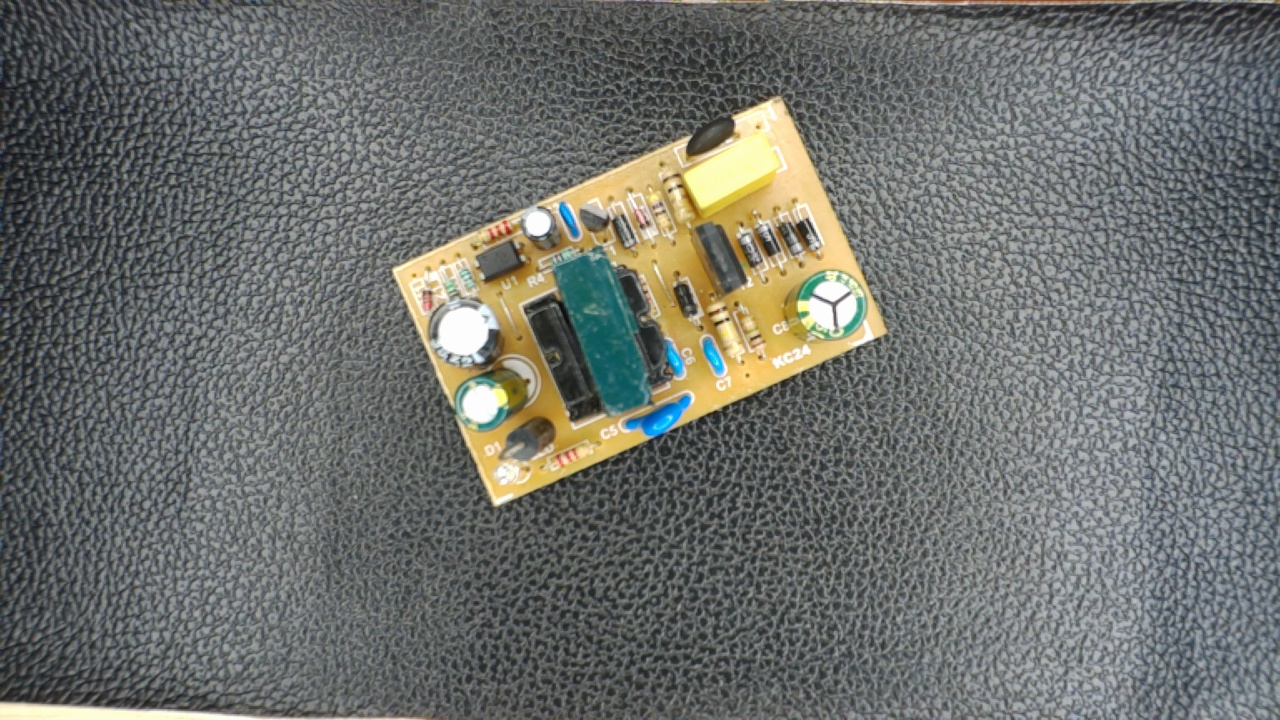fuse: (680, 114, 747, 159)
hv_capacitor: (786, 272, 869, 345)
mov: (617, 396, 699, 440)
optocoupler: (462, 239, 534, 282)
